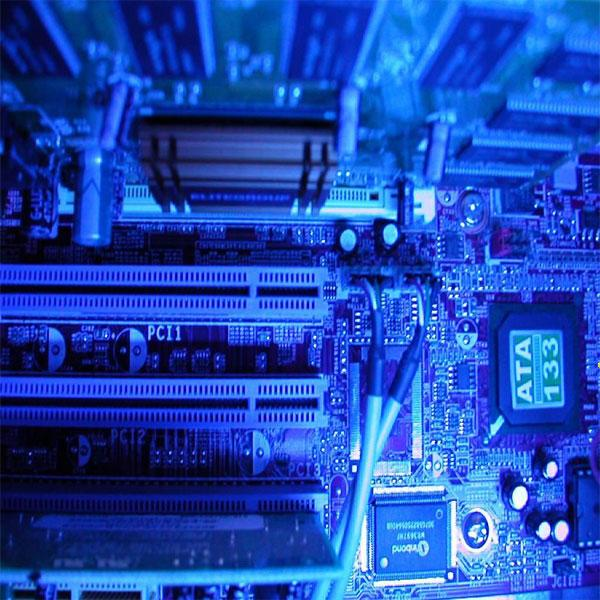componente_T: (272, 593, 283, 600)
